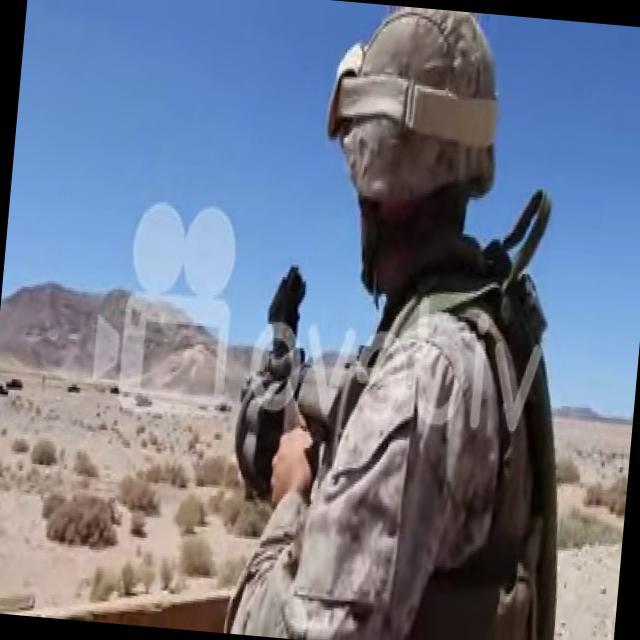rocket: (222, 262, 372, 504)
